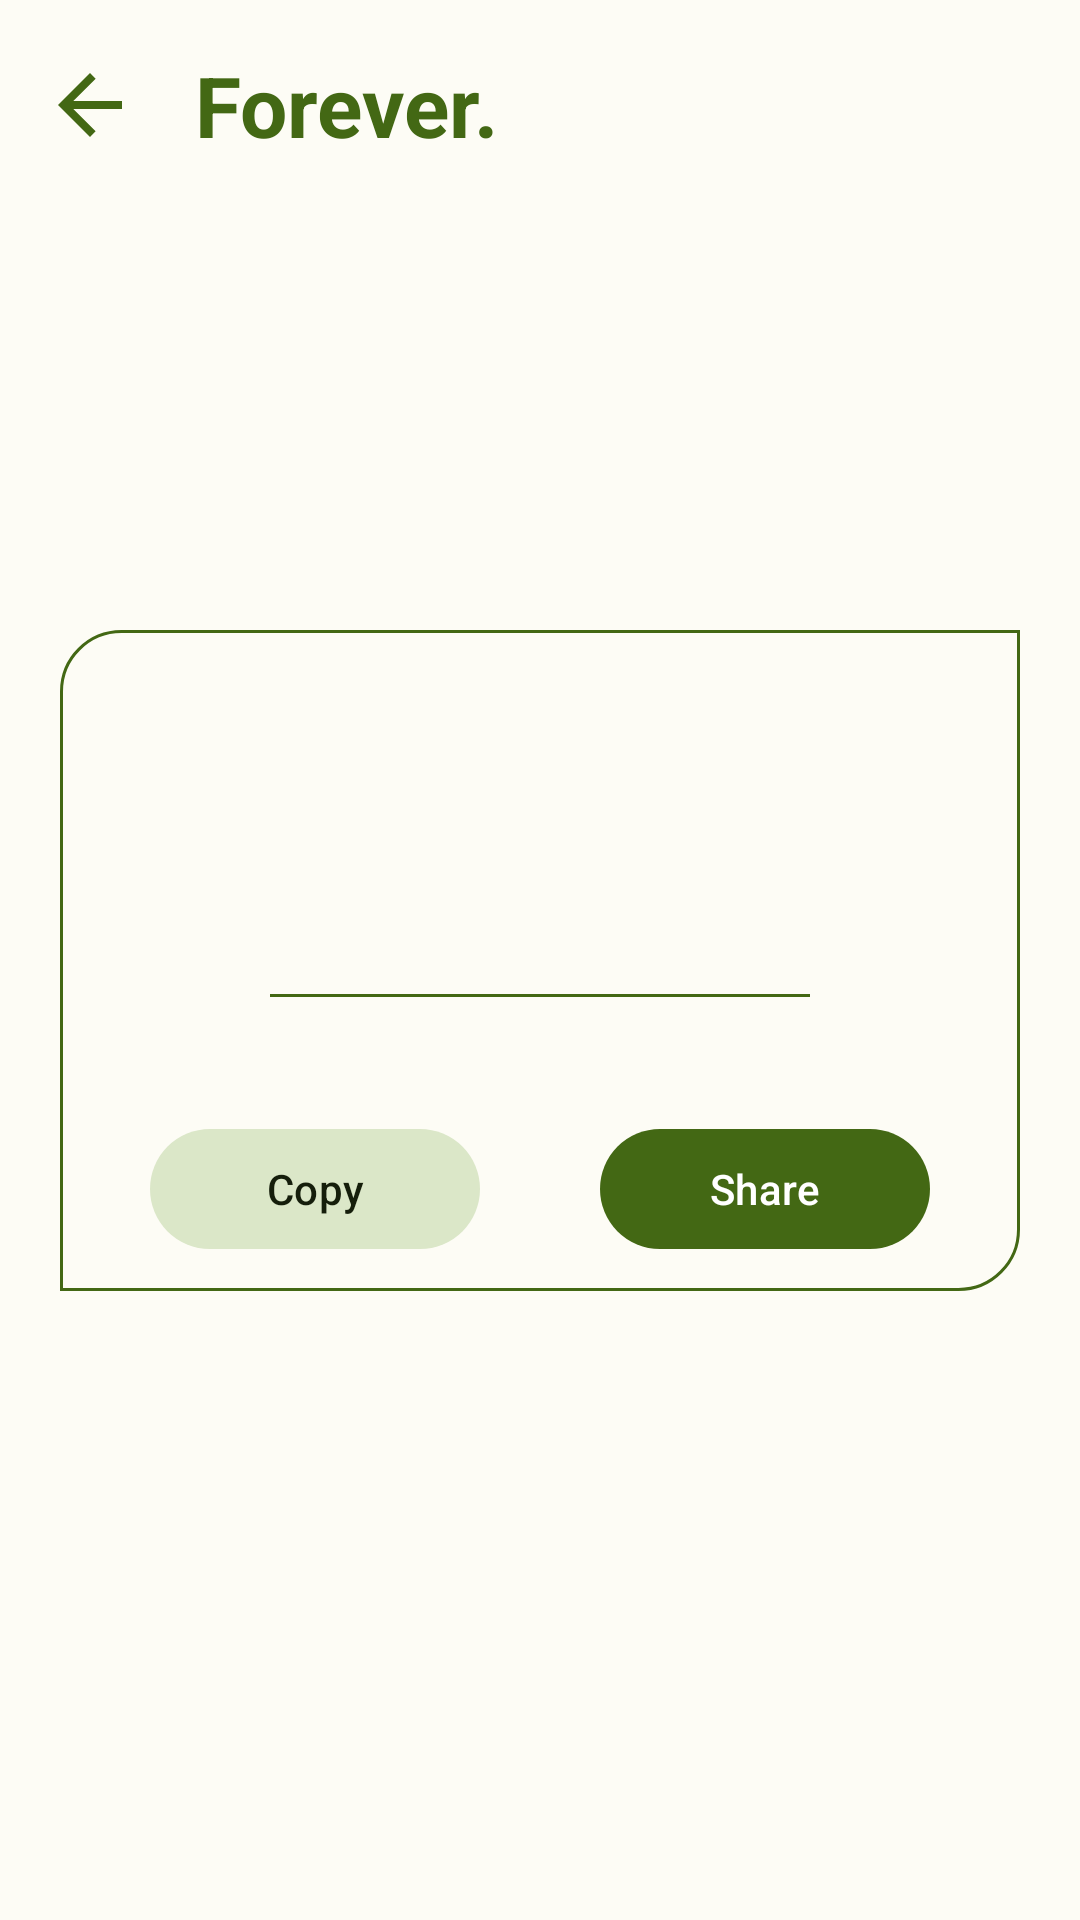

Named icons in this screenshot (1080 x 1920) and their centers, (x,y):
arrow back: (90,105)
